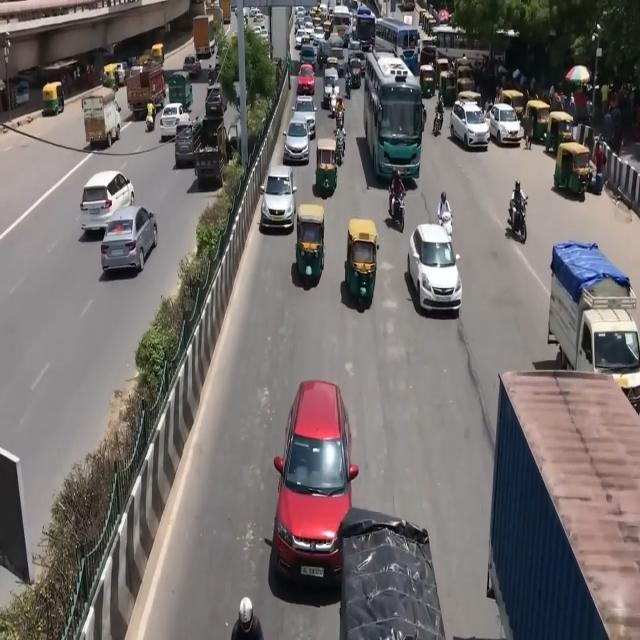auto: (344, 218, 378, 304), (296, 202, 326, 282), (554, 140, 592, 198), (544, 109, 574, 156), (314, 138, 338, 194), (524, 99, 552, 144), (168, 71, 194, 114), (499, 88, 525, 122), (42, 81, 64, 116), (439, 69, 457, 107), (420, 64, 435, 99), (103, 63, 121, 91), (151, 43, 165, 67)
bike-auto: (510, 179, 528, 230), (388, 185, 406, 231), (438, 192, 453, 235), (334, 122, 346, 164), (432, 105, 444, 136), (335, 94, 345, 126), (146, 100, 156, 128)
